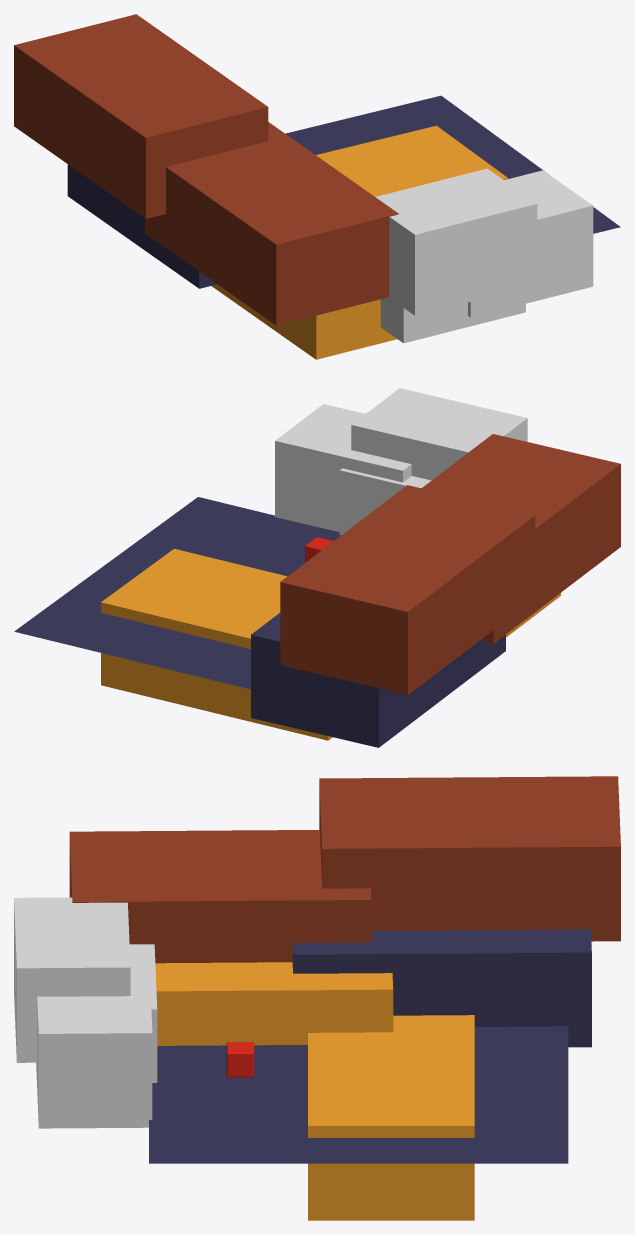
File: Cubescene.gltf
The picture shows the model from 3 angles, top to bottom: view 1: azimuth 30°, elevation 25°; view 2: azimuth 150°, elevation 25°; view 3: azimuth 270°, elevation 25°; orthographic projection. The views are drawn at different scales.
Parts seen in each view (by area): view 1: Cube.004, Cube.007, Cube.008, Cube.006, Plane, Cube.001, Cube.002, Cube.003, Cube.005; view 2: Cube.007, Plane, Cube.004, Cube.001, Cube.003, Cube.008, Cube.006, Cube.005; view 3: Cube.007, Plane, Cube.004, Cube.001, Cube.003, Cube.002, Cube.006, Cube.008, Cube.005, Cube.
Part boxes in pixels (x1,y1,x2,y2): Cube.004: [144, 122, 398, 325]; Cube.007: [14, 14, 268, 218]; Cube.008: [375, 168, 537, 315]; Cube.006: [468, 170, 593, 317]; Plane: [285, 95, 620, 233]; Cube.001: [316, 125, 507, 196]; Cube.002: [212, 284, 397, 359]; Cube.003: [67, 164, 216, 288]; Cube.005: [380, 297, 525, 343]; Cube.007: [280, 485, 535, 694]; Plane: [14, 497, 340, 689]; Cube.004: [422, 434, 620, 643]; Cube.001: [101, 548, 332, 740]; Cube.003: [251, 613, 505, 747]; Cube.008: [351, 388, 527, 480]; Cube.006: [275, 404, 411, 531]; Cube.005: [339, 468, 431, 535]; Cube.007: [319, 776, 620, 941]; Plane: [149, 1026, 568, 1163]; Cube.004: [69, 830, 371, 963]; Cube.001: [308, 1015, 474, 1220]; Cube.003: [292, 929, 591, 1047]; Cube.002: [155, 962, 393, 1045]; Cube.006: [36, 962, 152, 1128]; Cube.008: [14, 897, 130, 1062]; Cube.005: [129, 944, 157, 1082]; Cube: [226, 1042, 254, 1077].
Size of the model in its own units: 39.46 by 19.01 by 43.8.
